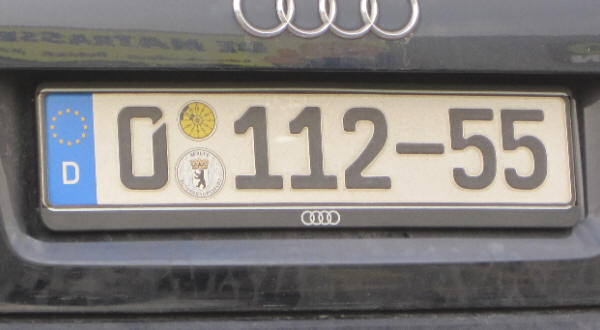license_plate: (36, 87, 574, 213)
